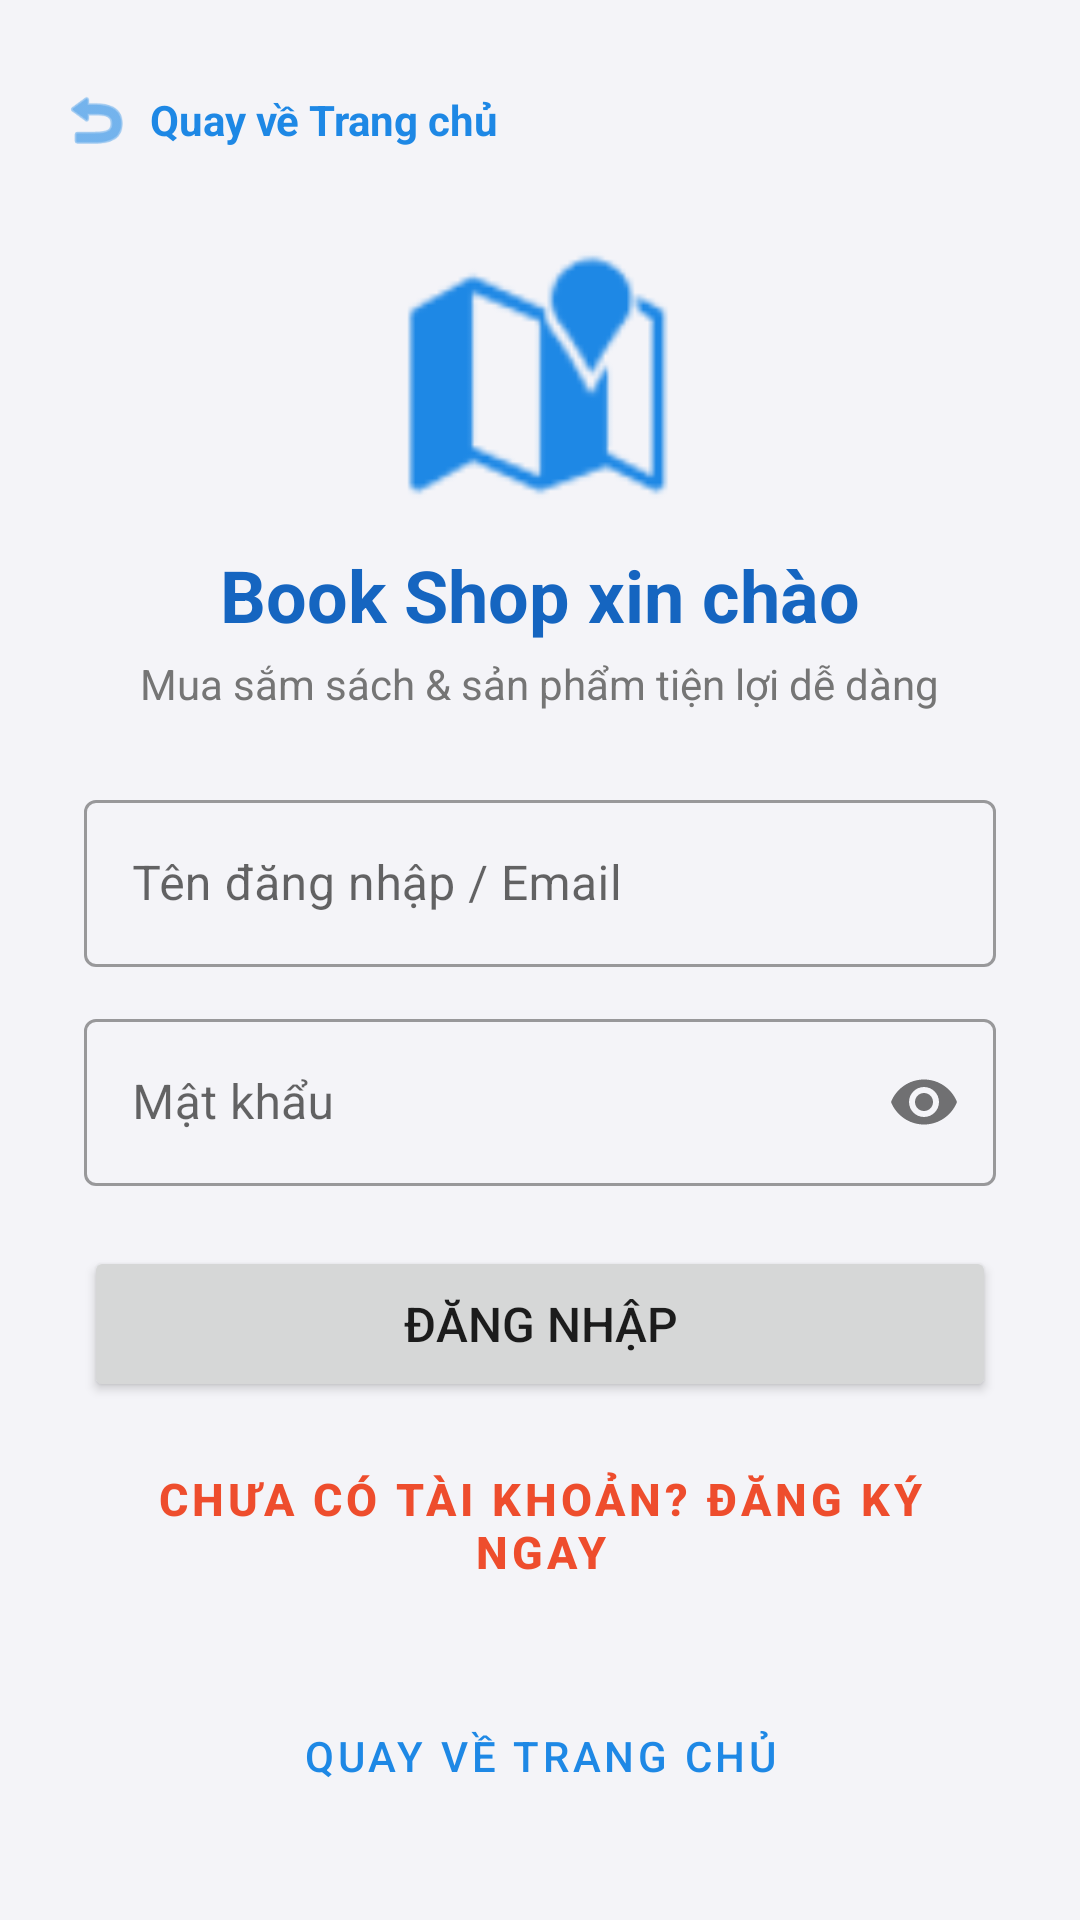

Icons on this 1080px×1920px Android screen, each with its box as (x1, y1, x2, y2):
map: (408, 256, 667, 494)
revert: (71, 97, 123, 144)
